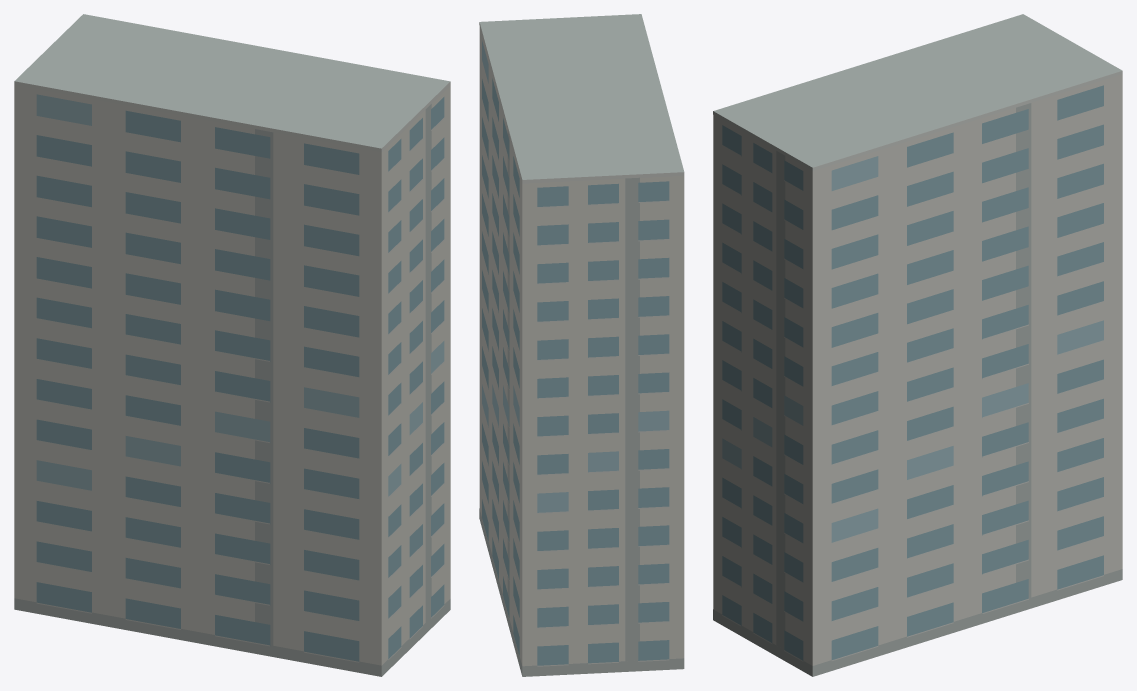
Rendered from residential-81a9c6ff-592f-4843-a7d6-5c96b3b04eb6.glb.
The picture shows the model from 3 angles, left to right: view 1: azimuth 30°, elevation 25°; view 2: azimuth 150°, elevation 25°; view 3: azimuth 270°, elevation 25°; orthographic projection. The views are drawn at different scales.
Visible parts, largest first — view 1: residential-81a9c6ff-592f-4843-a7d6-5c96b3b04eb6.tmp; view 2: residential-81a9c6ff-592f-4843-a7d6-5c96b3b04eb6.tmp; view 3: residential-81a9c6ff-592f-4843-a7d6-5c96b3b04eb6.tmp.
Boxes of the visible parts, bbox=[...] form: residential-81a9c6ff-592f-4843-a7d6-5c96b3b04eb6.tmp: bbox=[14, 14, 450, 676]; residential-81a9c6ff-592f-4843-a7d6-5c96b3b04eb6.tmp: bbox=[479, 14, 684, 676]; residential-81a9c6ff-592f-4843-a7d6-5c96b3b04eb6.tmp: bbox=[713, 14, 1122, 676].
Bounding box in the file's own units: 22.68 × 35 × 25.52.
